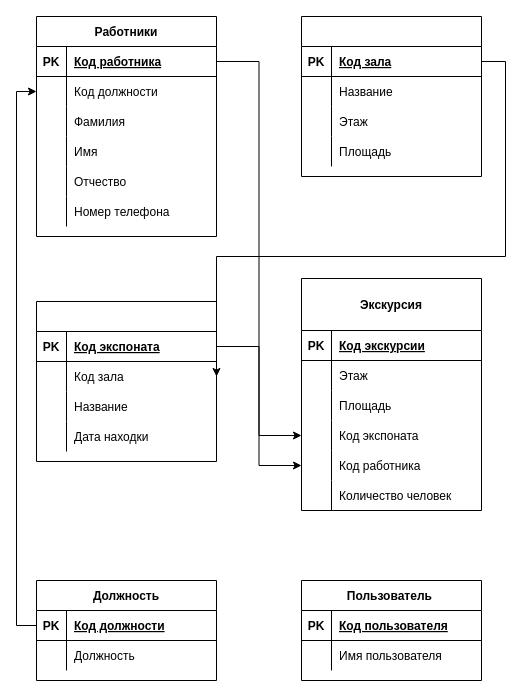
Image size: 522x697. Some labels were removed from this diagram. Here are the shapes that lost their labels. From the top down, the box of each, then its label:
(300, 16, 482, 176): Залы
(36, 300, 216, 462): Выставочные экспонаты
